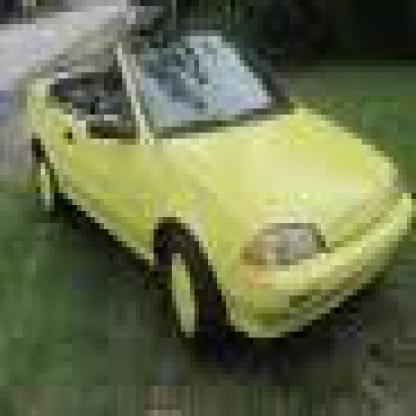Vehicle: (23, 30, 412, 380)
